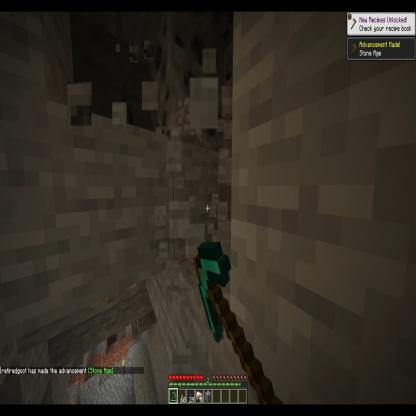coal ore: (148, 10, 224, 152)
